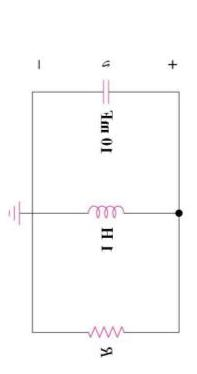inductor: (73, 182, 131, 223)
